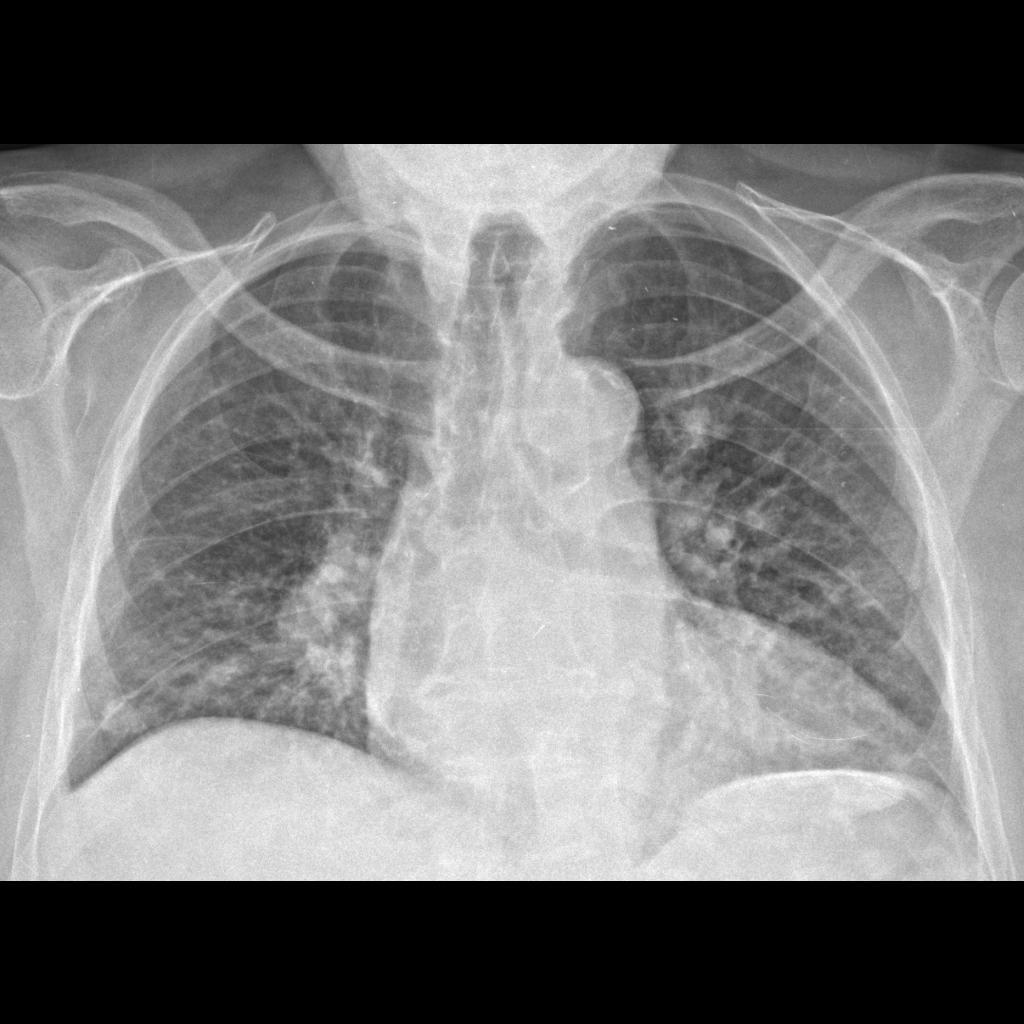Nodule: (90, 684, 146, 750), (680, 406, 718, 457)
